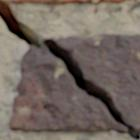broken_brick: (10, 47, 126, 133), (55, 34, 139, 132), (3, 0, 137, 5)
crack: (0, 0, 139, 139)
